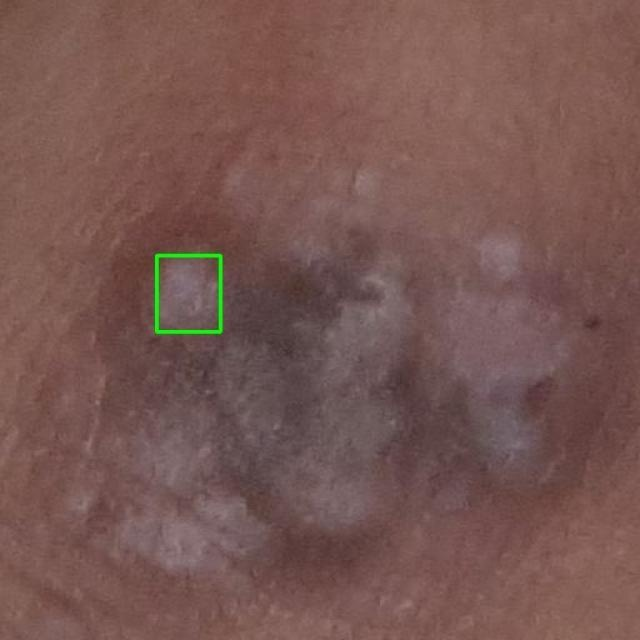Contact Dermatitis: (156, 255, 220, 331)
